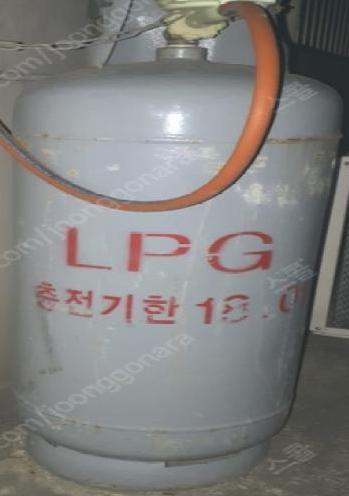cylinder: (1, 1, 349, 496)
